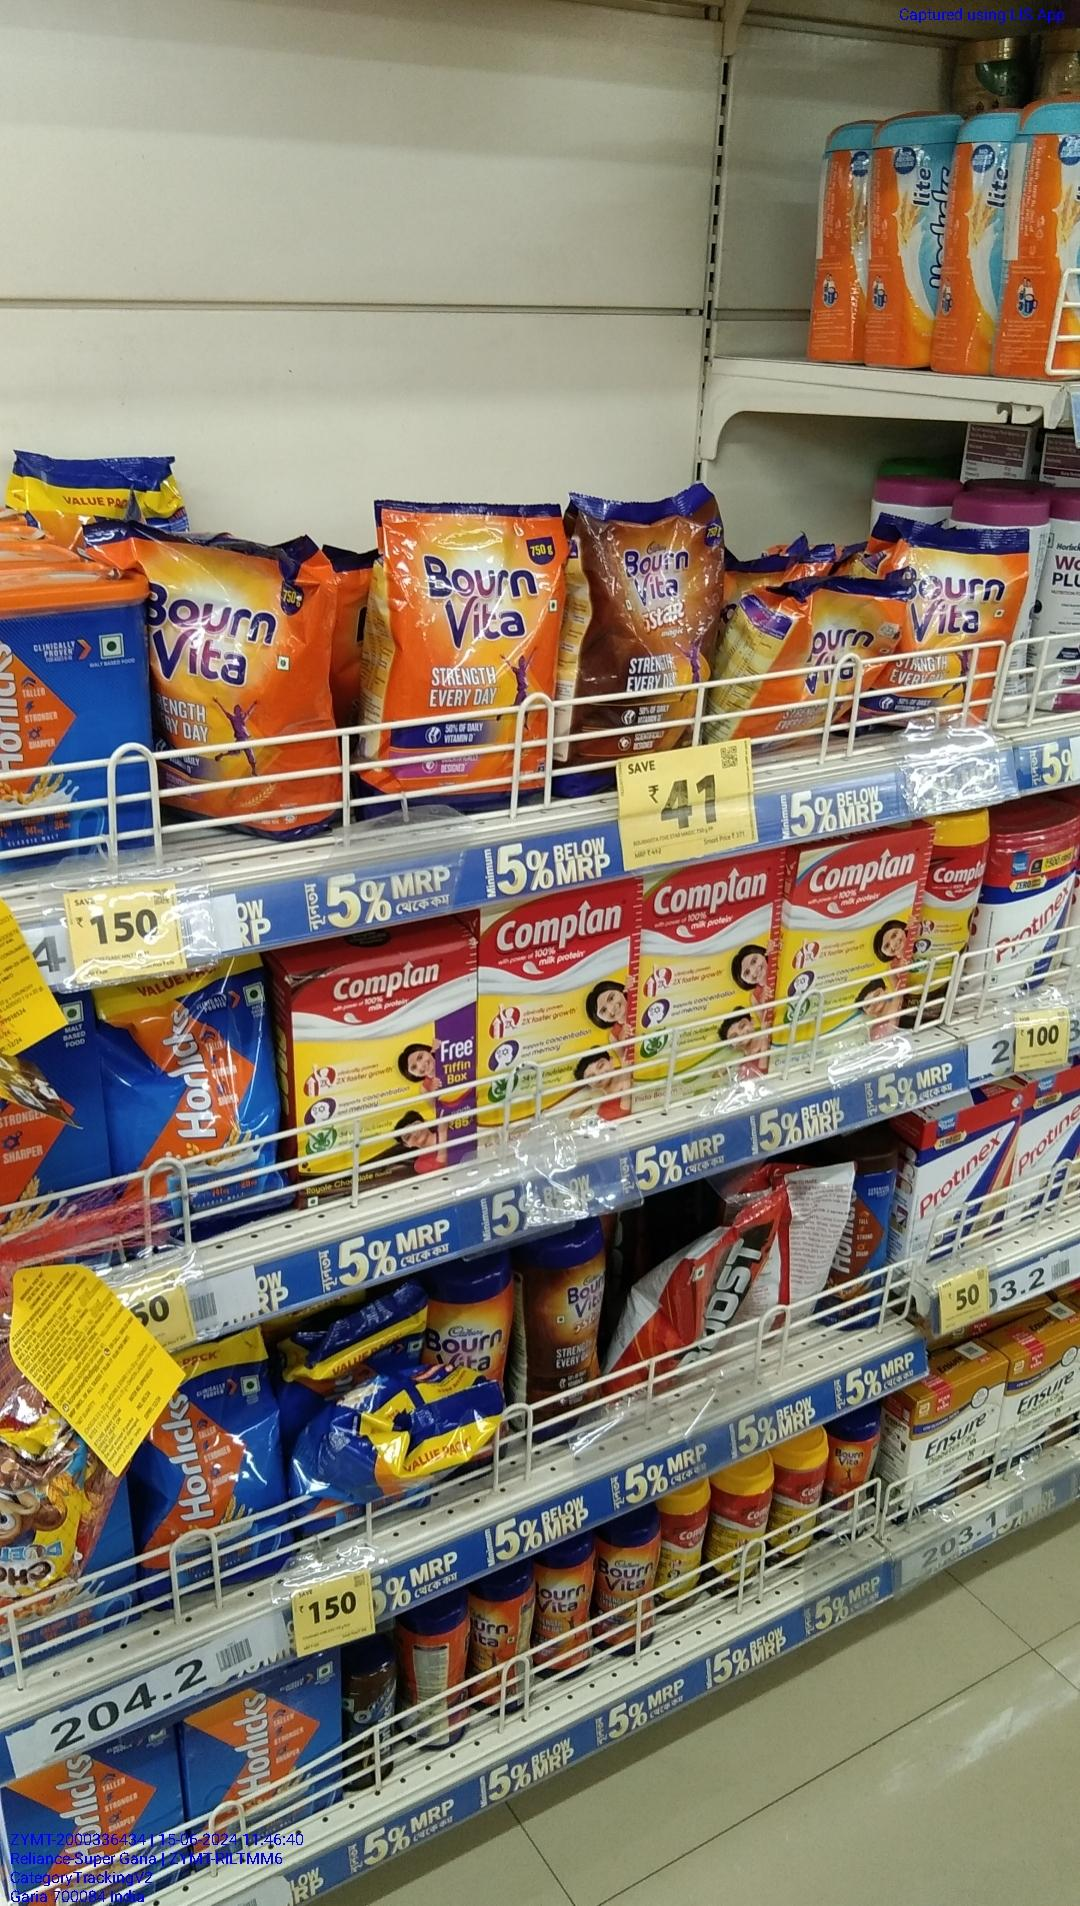BOURN_VITA_200_G_JAR: (474, 1584, 534, 1712), (538, 1549, 593, 1678), (600, 1524, 651, 1653)
BOURN_VITA_750_G_POUCH: (373, 501, 554, 806)
BOURN_VITA_FIVE_STAR_MAGIC_500_G_JAR: (526, 1246, 603, 1443)
BOURN_VITA_FIVE_STAR_MAGIC_750_G_POUCH: (580, 500, 717, 757)
COMPLAN_CHOCOLATE_200_GMS_JAR: (657, 1478, 711, 1614), (715, 1470, 768, 1596), (772, 1443, 823, 1563)
COMPLAN_CHOCOLATE_500_GMS_JAR: (927, 806, 986, 1025)
COMPLAN_CHOCOLATE_500_GMS_PACK: (289, 961, 474, 1202)
COMPLAN_CREAMY_CLASSIC_500_G_PACK: (782, 842, 923, 1075)
COMPLAN_KESAR_BADAM_500_GMS_PACK: (482, 906, 630, 1135)
COMPLAN_PISTA_BADAM_500_GMS_PACK: (638, 876, 774, 1084)
HORLICK_CLASSIC_MALT_500_G_PACK: (189, 1689, 329, 1837)
